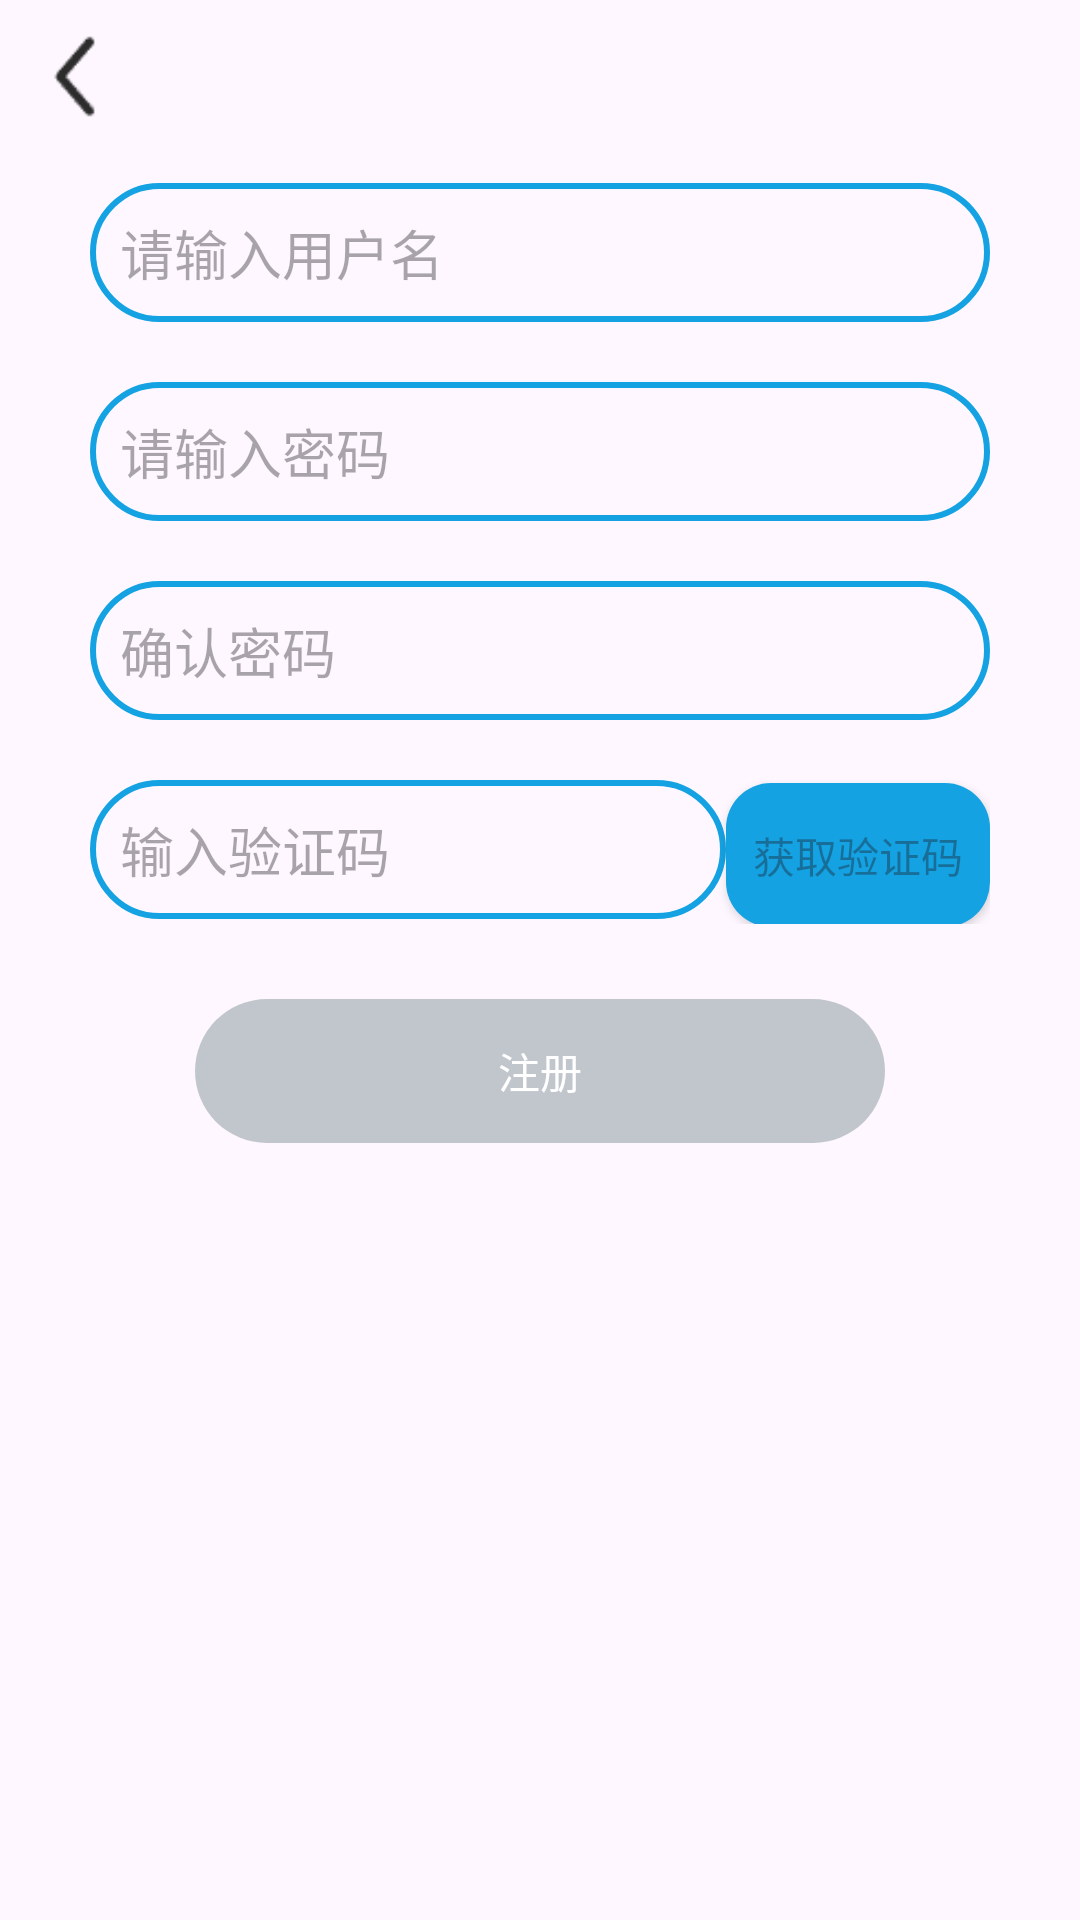

Screen size 1080px x 1920px. Icon name, then its center in pixels as (x=x, y=y):
back: (x=74, y=76)
